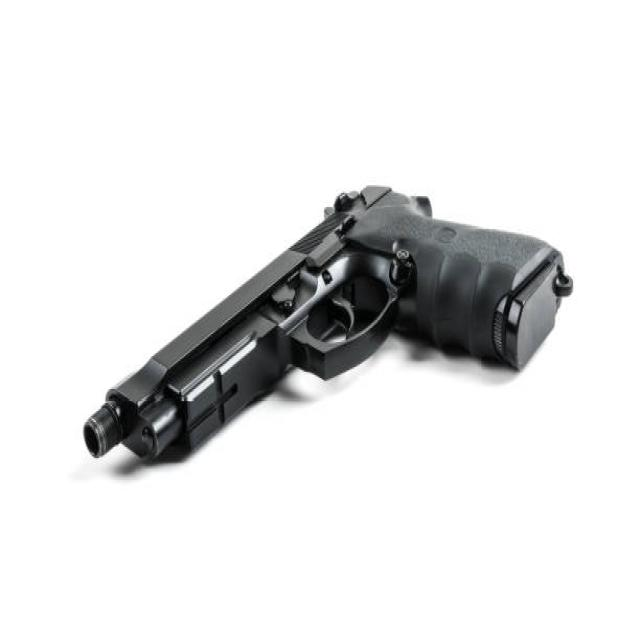pistol: (76, 179, 580, 480)
